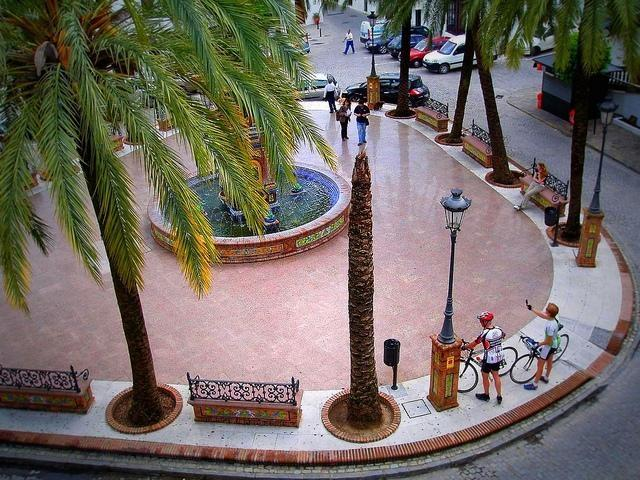bicycle: (458, 340, 519, 394), (511, 334, 569, 383)
car: (421, 34, 498, 76), (340, 73, 430, 108), (524, 18, 580, 57), (398, 36, 450, 68), (293, 73, 341, 102), (388, 32, 427, 58), (364, 33, 394, 54)
